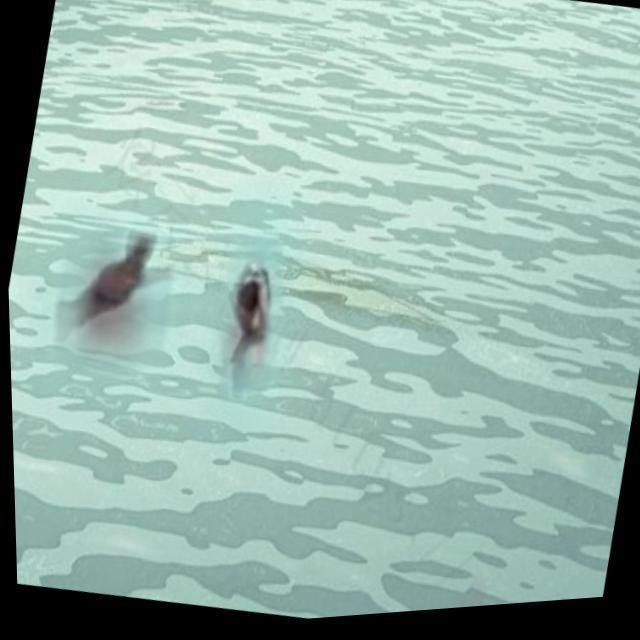swimming: (51, 220, 160, 364), (208, 243, 297, 390)
